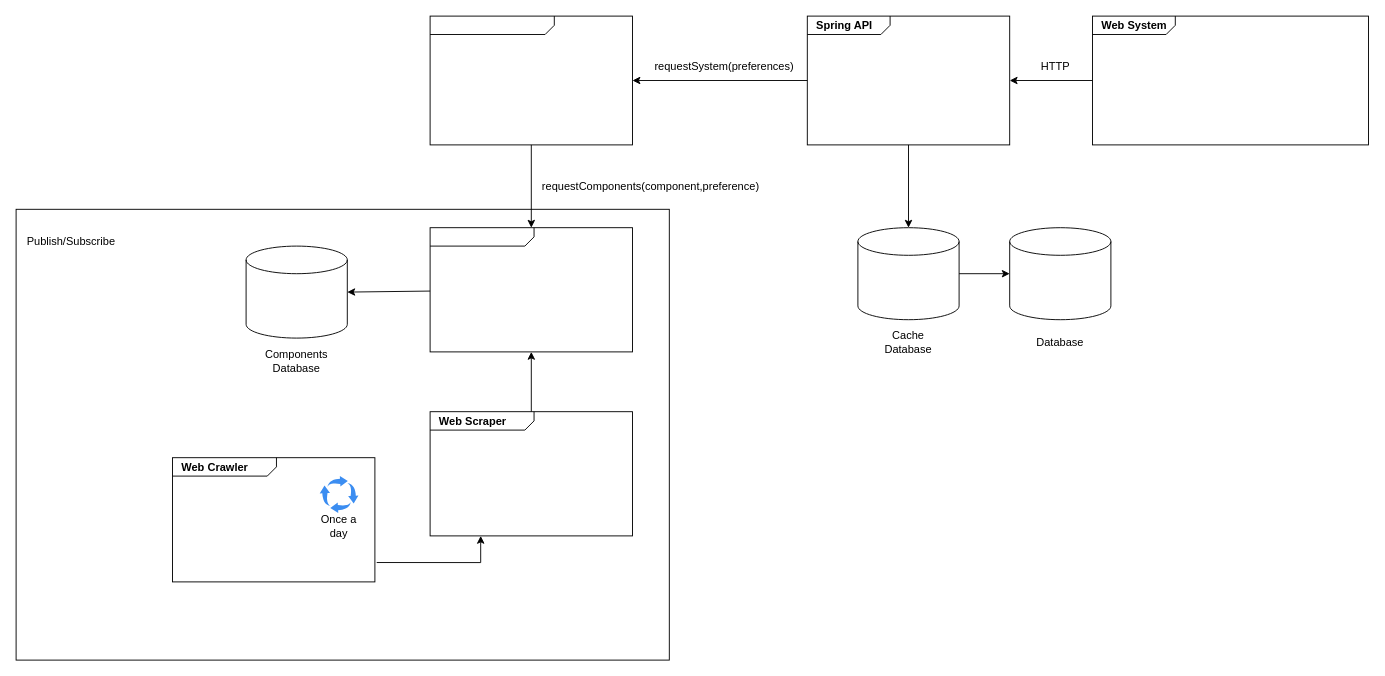
Some shapes in this 1385 by 676 pixel diagram are drawn without their labels. Here are the shapes that lost their labels. From the top down, the box of each, then its label:
(429, 15, 632, 145): Suggestion System
(429, 227, 632, 352): Components API
